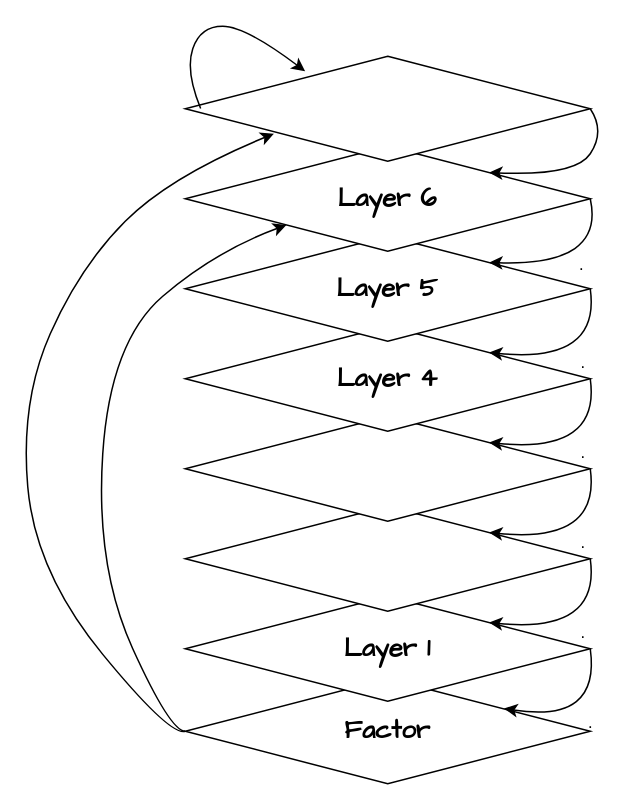
Image size: 624x810. Some labels were removed from this diagram. The shapes that lost their labels are listed below. From the top down, each one's centre as x and y in pixels, then its label:
(x=387, y=108): Global Layer
(x=387, y=468): Layer 3
(x=387, y=558): Layer 2
